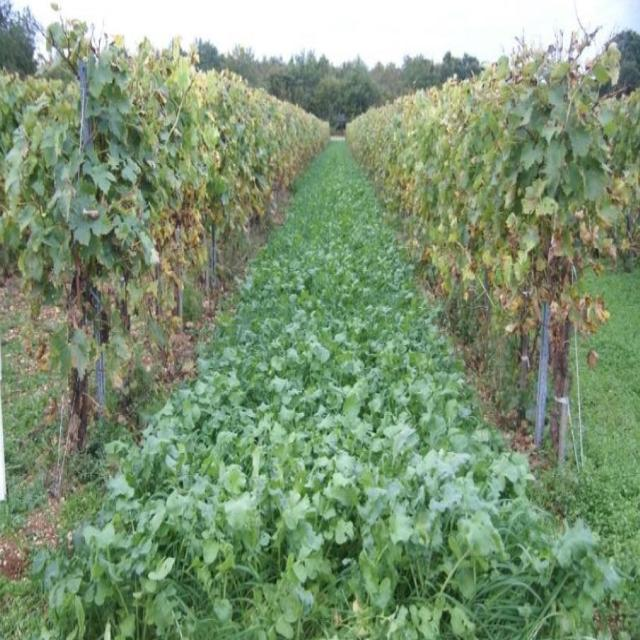row: (0, 132, 600, 640)
